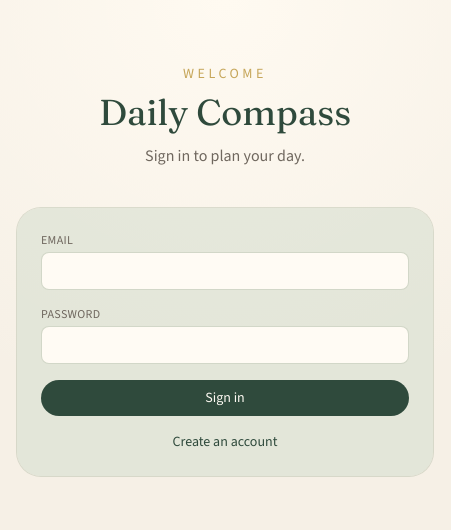
it: LoginForm › shows an error for bad credentials
Type "user@example.com" into the field labelled "Email". click: (225, 271)
box: x1=41 y1=252 x2=409 y2=290
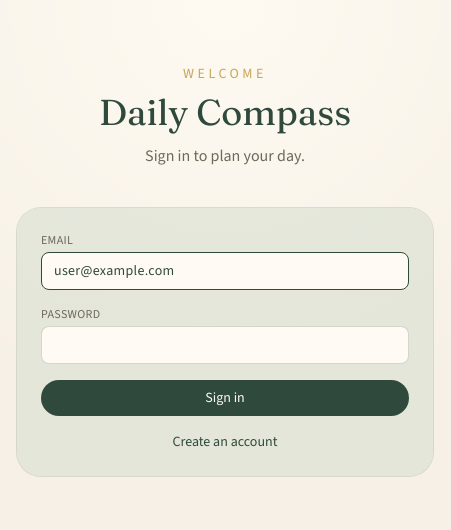
Type "nope" into the password field labelled "Password". click: (225, 345)
box: x1=41 y1=326 x2=409 y2=364
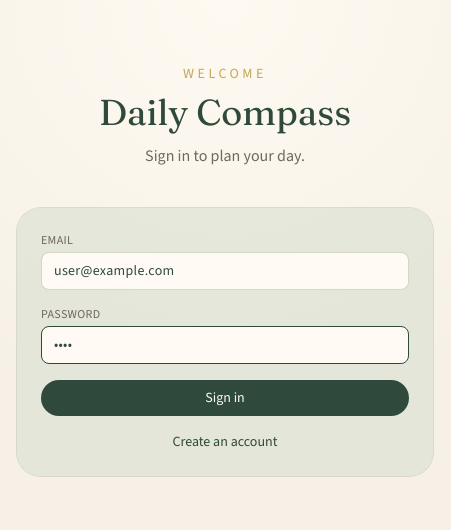
Click the button "Sign in". click: (225, 398)
box: x1=41 y1=380 x2=409 y2=416
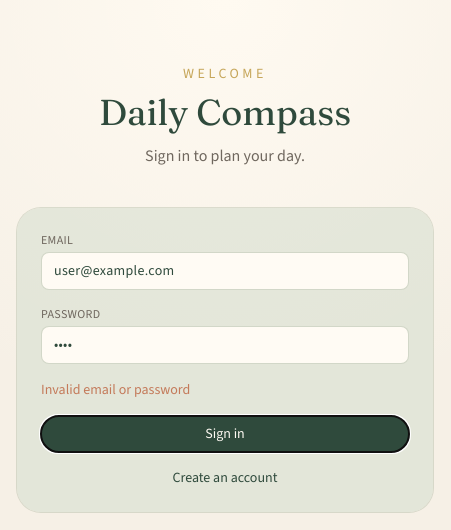
Check: the text "Invalid email or password" is shown, box x1=41 y1=380 x2=190 y2=399
